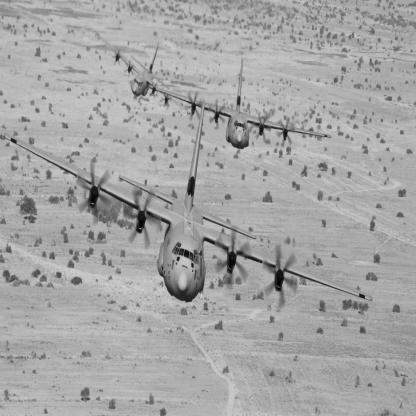C130: (2, 101, 373, 304), (149, 58, 332, 151), (97, 32, 195, 118)
